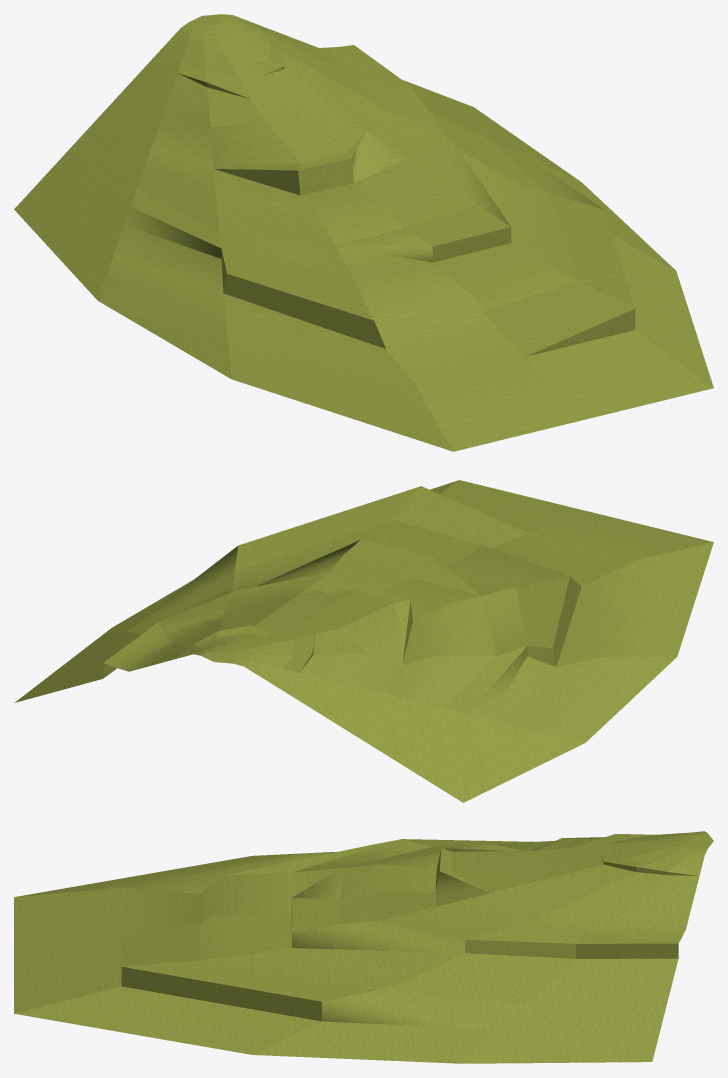
File: map_MM (1).fbx
The picture shows the model from 3 angles, top to bottom: view 1: azimuth 30°, elevation 25°; view 2: azimuth 150°, elevation 25°; view 3: azimuth 270°, elevation 25°; orthographic projection. The views are drawn at different scales.
Parts seen in each view (by area): view 1: hillRun; view 2: hillRun; view 3: hillRun.
Part boxes in pixels (x1,y1,x2,y2): hillRun: (14,14,713,451); hillRun: (14,480,713,802); hillRun: (14,831,713,1063).
Size of the model in its own units: 198773 by 48935 by 271231.
